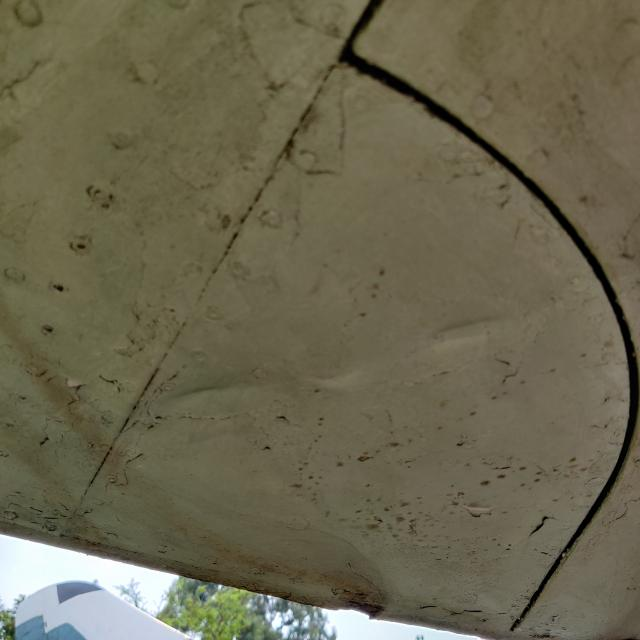dent: (145, 346, 269, 442), (405, 288, 529, 380)
